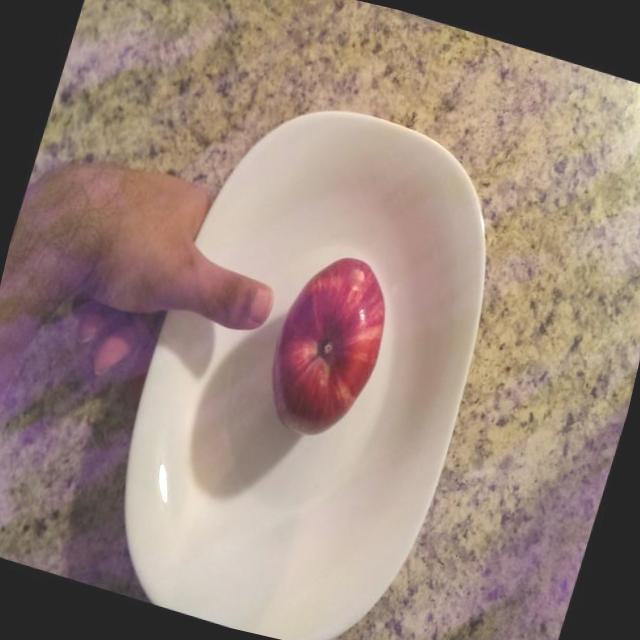Apple: (244, 232, 413, 459)
Finger: (192, 252, 288, 352)
